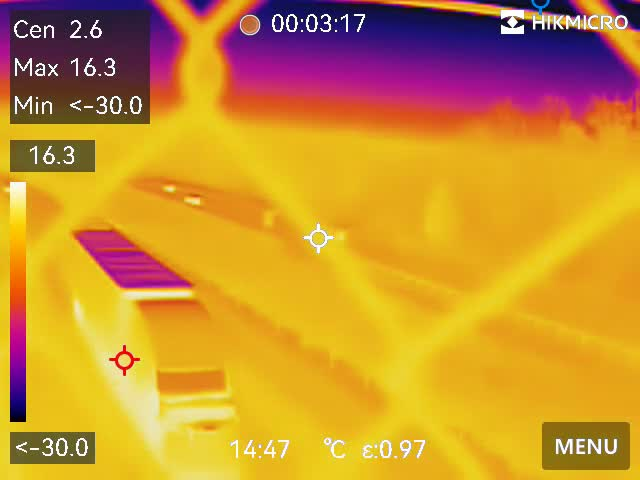heavyTruck: (64, 213, 253, 480)
